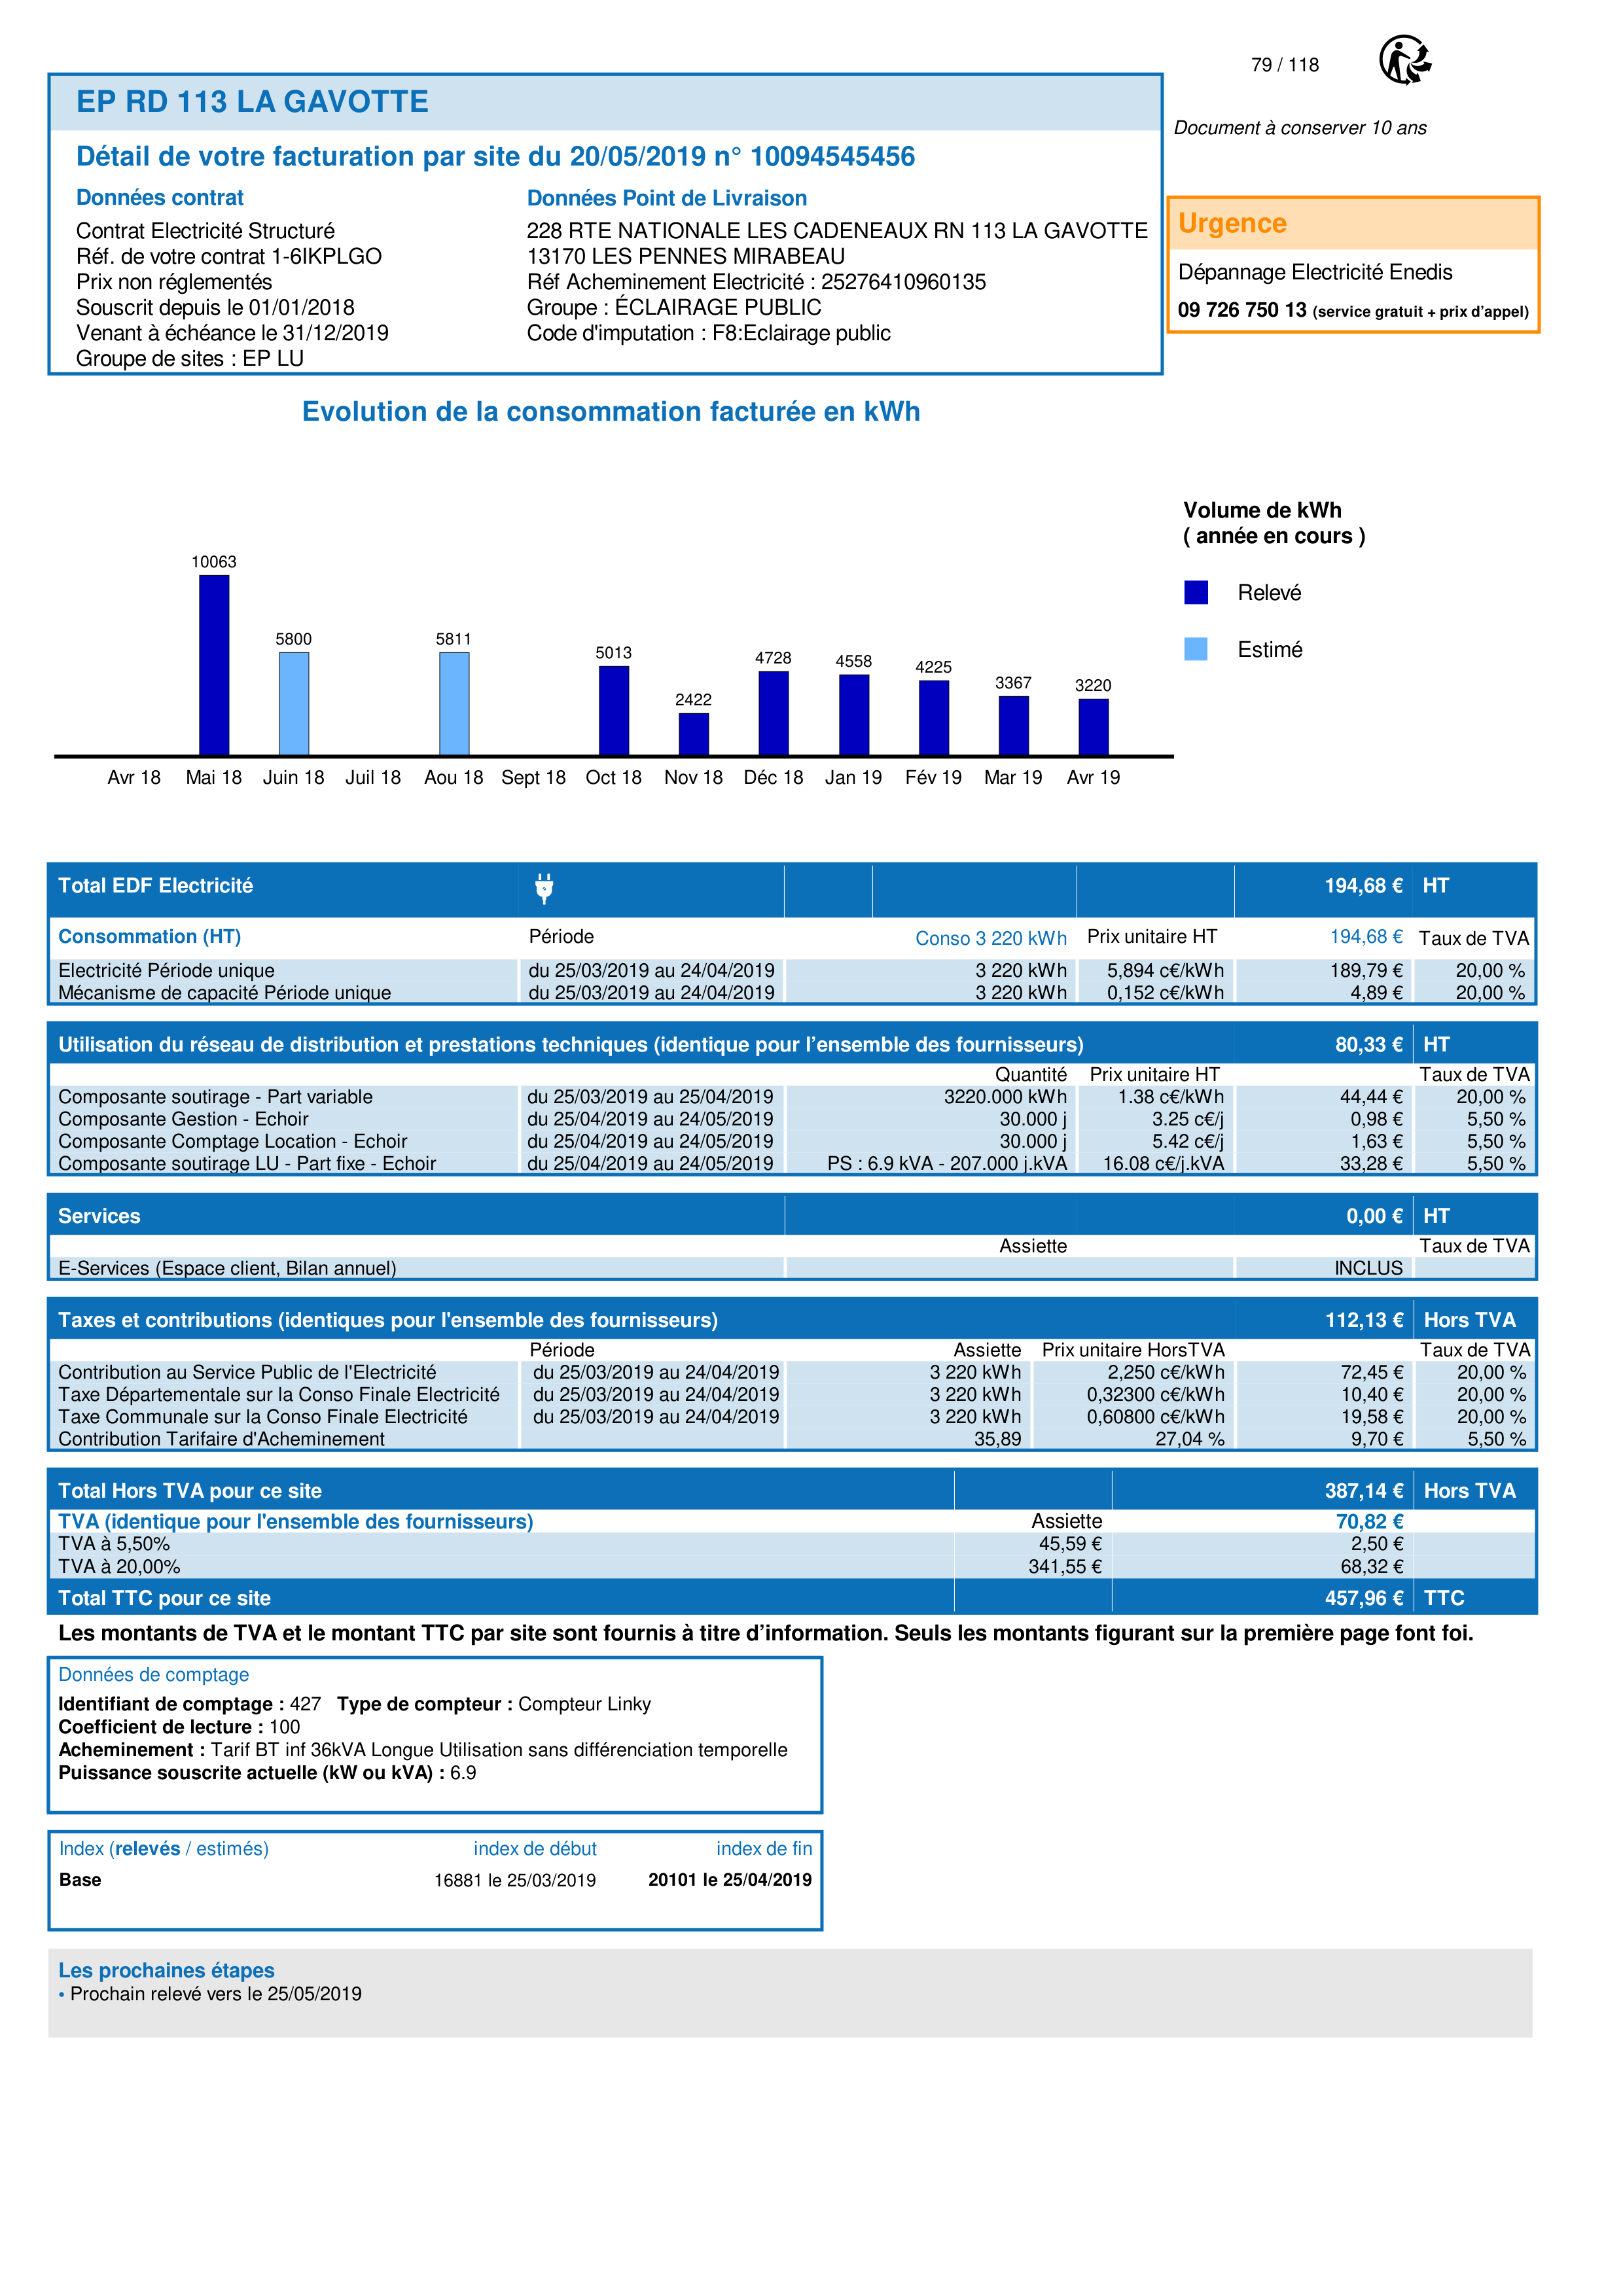area: (48, 1832, 824, 1933)
type_indicator: (47, 1833, 283, 1867)
